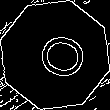O_W: (24, 27, 86, 83)
